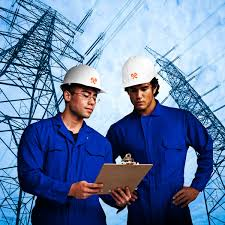Person_wearing_helmet: (53, 62, 104, 100), (117, 50, 161, 94)
